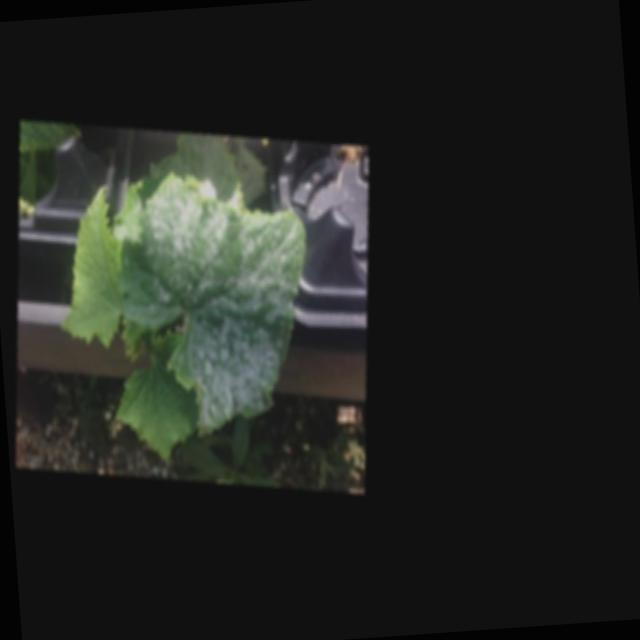Powdery_mildew_on_lettuce: (114, 146, 298, 412)
